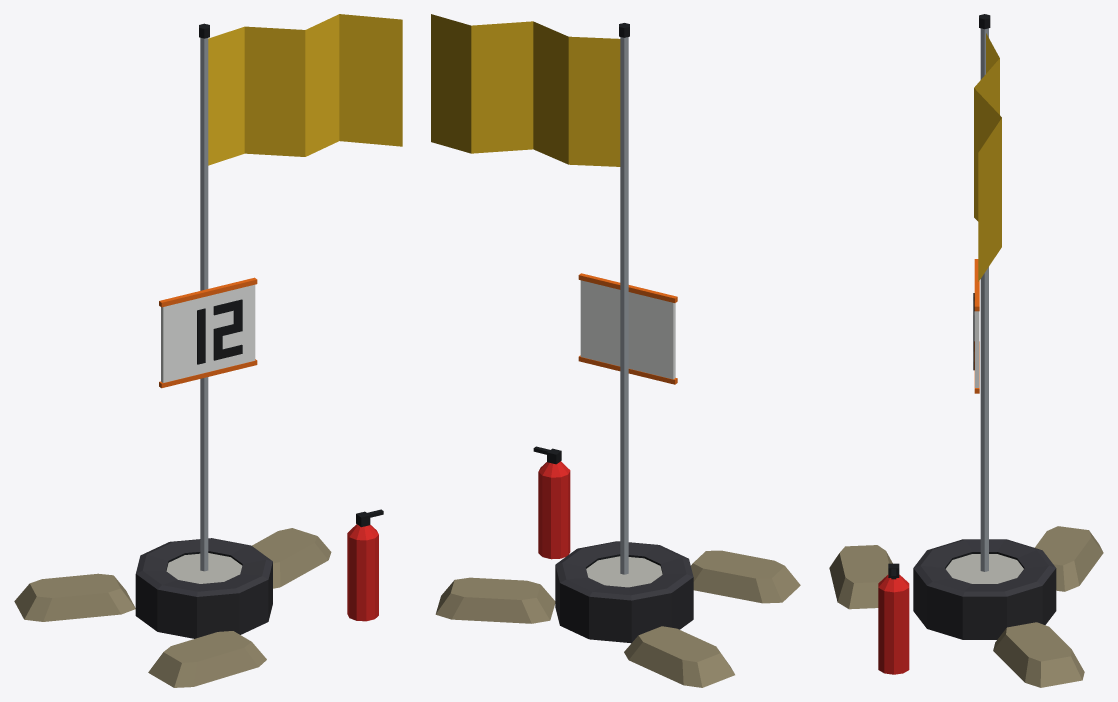
Rendered from flag_post.glb.
The picture shows the model from 3 angles, left to right: view 1: azimuth 30°, elevation 25°; view 2: azimuth 150°, elevation 25°; view 3: azimuth 270°, elevation 25°; orthographic projection.
Visible parts, largest first — view 1: flag_post; view 2: flag_post; view 3: flag_post.
Boxes of the visible parts, x1,y1,x2,y2 form: flag_post: (14, 14, 402, 687); flag_post: (431, 14, 800, 687); flag_post: (829, 14, 1103, 687).
Bounding box in the file's own units: 1.85 × 3.03 × 1.27.
